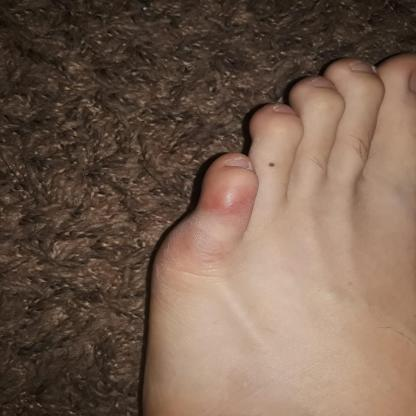Fire ant: (57, 172, 147, 228)
